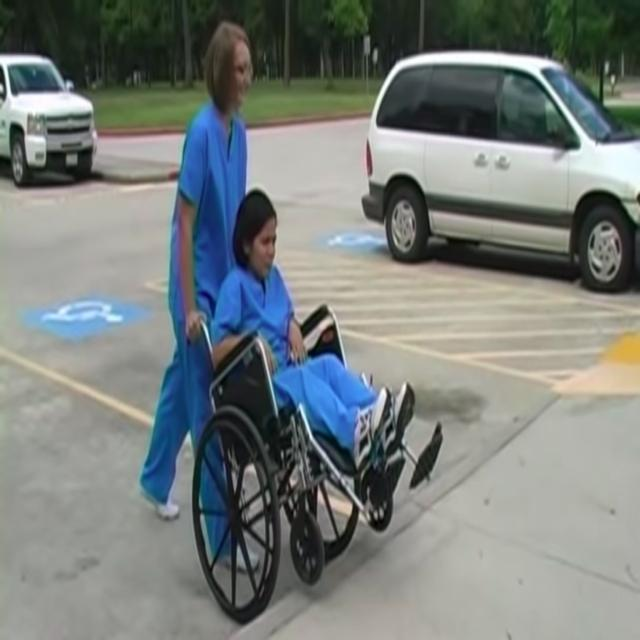wheelchairs: (179, 307, 374, 630)
